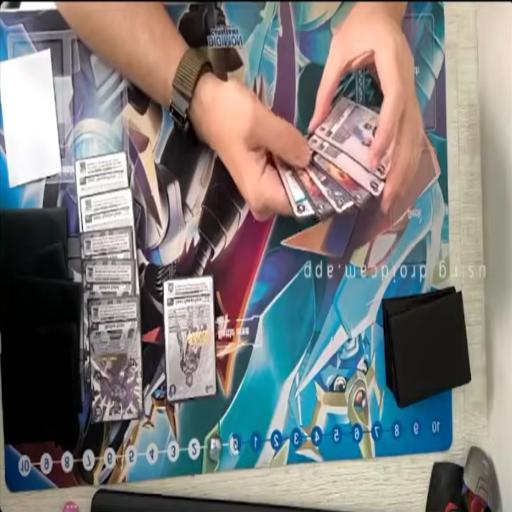card: (83, 259, 137, 390), (91, 298, 143, 422), (164, 276, 216, 396), (316, 95, 394, 175), (311, 138, 383, 196), (272, 140, 319, 226), (310, 150, 368, 208), (78, 184, 136, 238), (306, 155, 352, 214), (73, 150, 129, 193), (78, 228, 133, 270), (296, 161, 330, 222)
